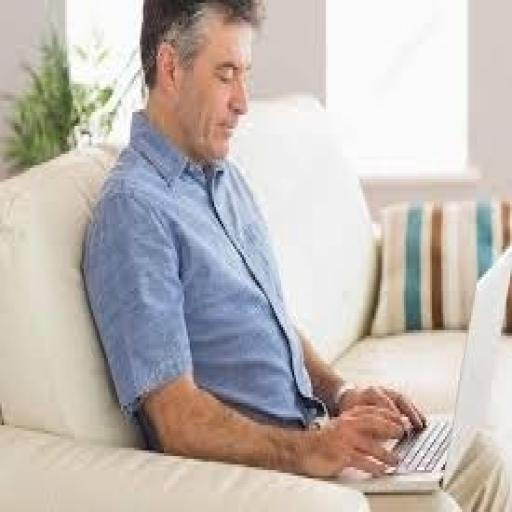using_laptop: (328, 238, 510, 495)
